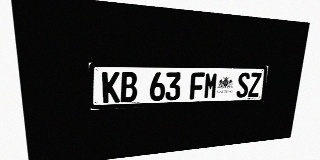3: (165, 72, 181, 101)
6: (150, 72, 166, 101)
B: (120, 72, 137, 102)
F: (190, 72, 205, 100)
K: (102, 72, 120, 103)
M: (203, 72, 218, 99)
S: (236, 72, 250, 98)
Z: (248, 73, 262, 97)
